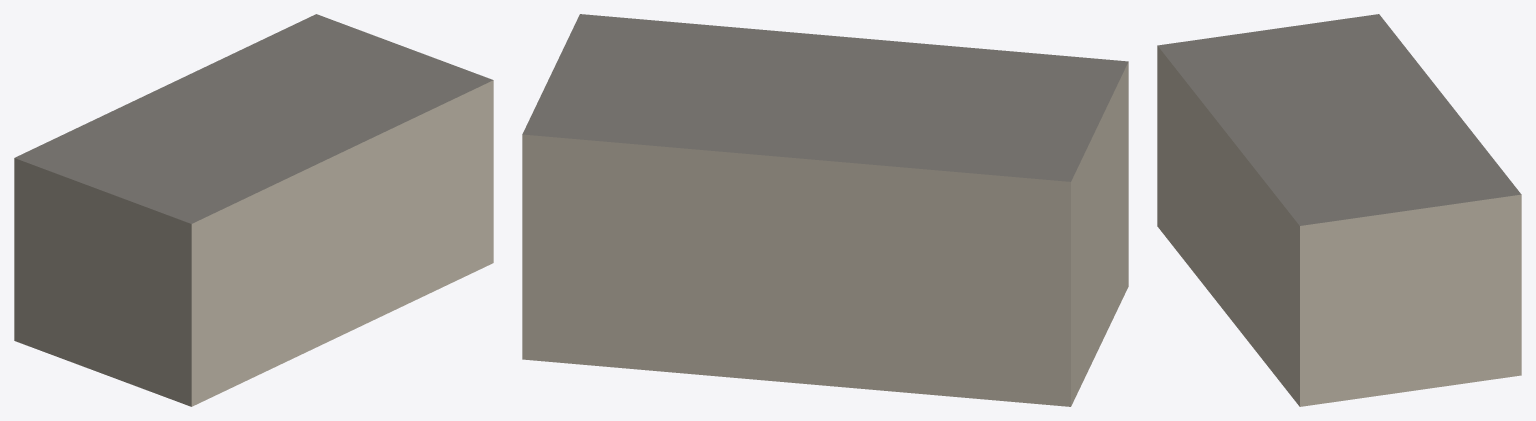
The picture shows the model from 3 angles, left to right: view 1: azimuth 30°, elevation 25°; view 2: azimuth 150°, elevation 25°; view 3: azimuth 270°, elevation 25°; orthographic projection. The views are drawn at different scales.
Visible parts, largest first — view 1: HP-w369317480; view 2: HP-w369317480; view 3: HP-w369317480.
Boxes of the visible parts, bbox=[...] form: HP-w369317480: bbox=[14, 14, 493, 406]; HP-w369317480: bbox=[522, 14, 1128, 406]; HP-w369317480: bbox=[1157, 14, 1521, 406].
Bounding box in the file's own units: 30.16 × 12 × 21.89.
